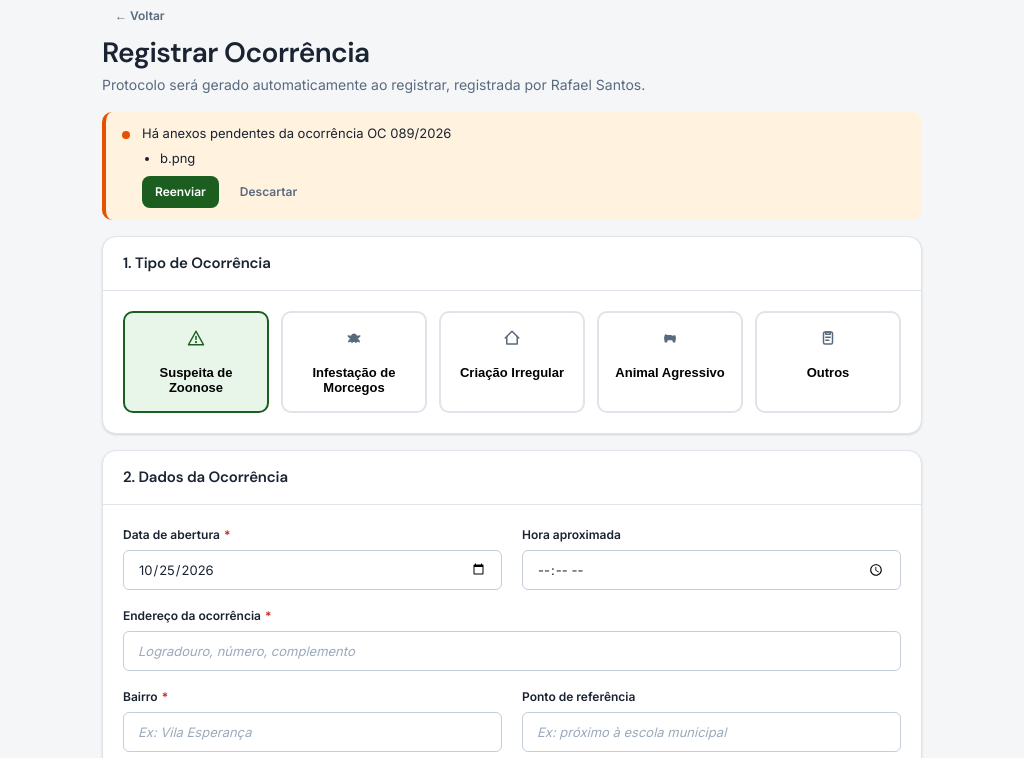
Scenario: aviso de anexos pendentes (D15) › 413 no reenvio (tamanho): também é recusa definitiva
The width and height of the screenshot is (1024, 758).
Click the button "Reenviar".
click(180, 192)  # box 142,176 -> 219,208
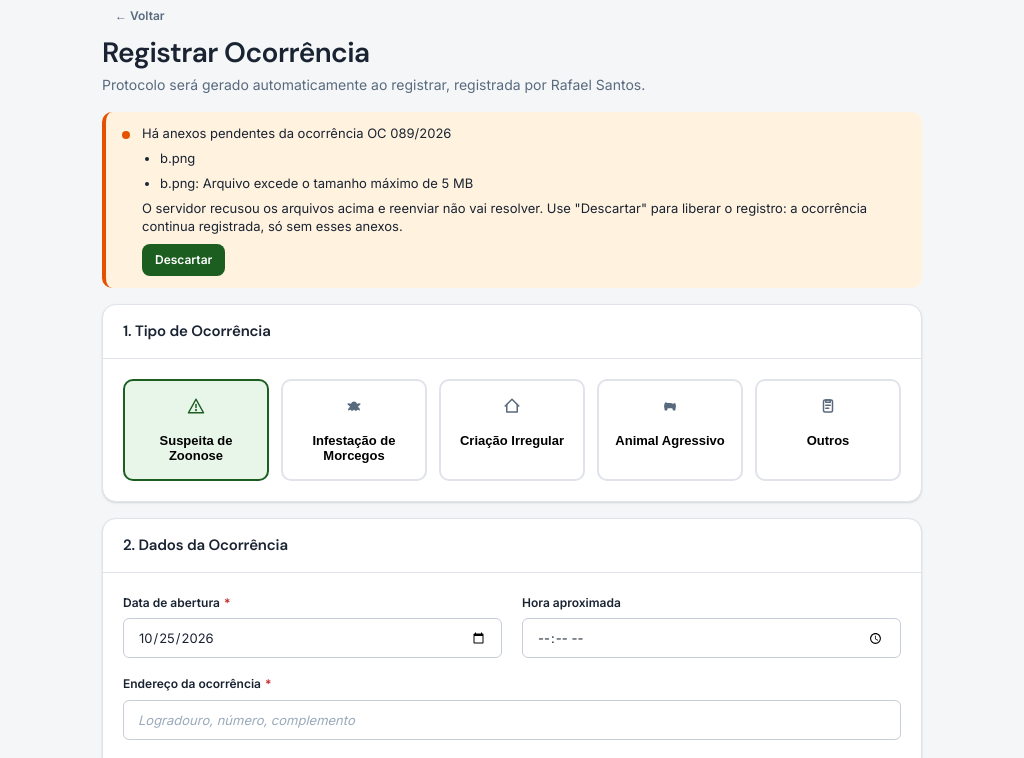
Expected: the list item "b.png: Arquivo excede o tamanho máximo de 5 MB" is shown, 160,175 -> 473,191
Expected: the text "reenviar não vai resolver" is shown, 142,200 -> 867,234
